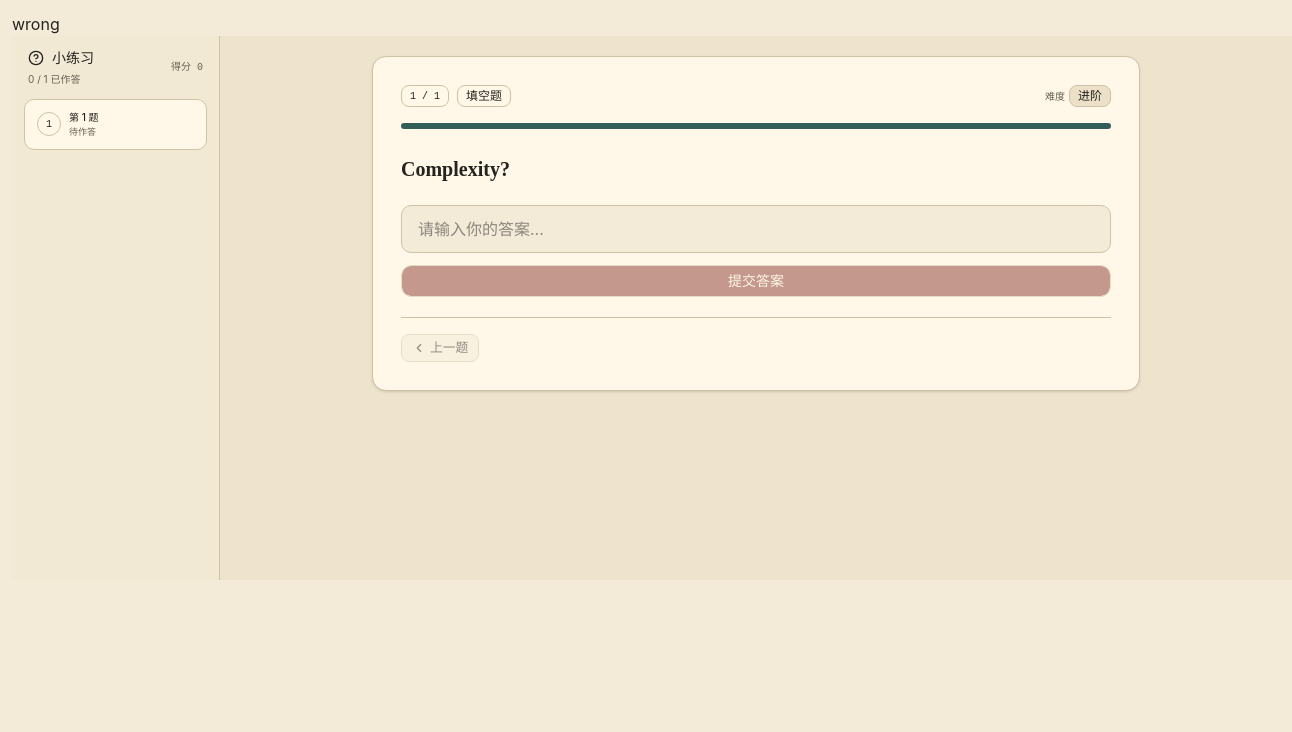
Scenario: QuizPanel › submits the current fill-in draft without reading other page inputs
This screenshot has width=1292, height=732.
Step 1. Type "O(n)" into the field with placeholder "请输入你的答案..." → (756, 229), box x1=401 y1=205 x2=1111 y2=253
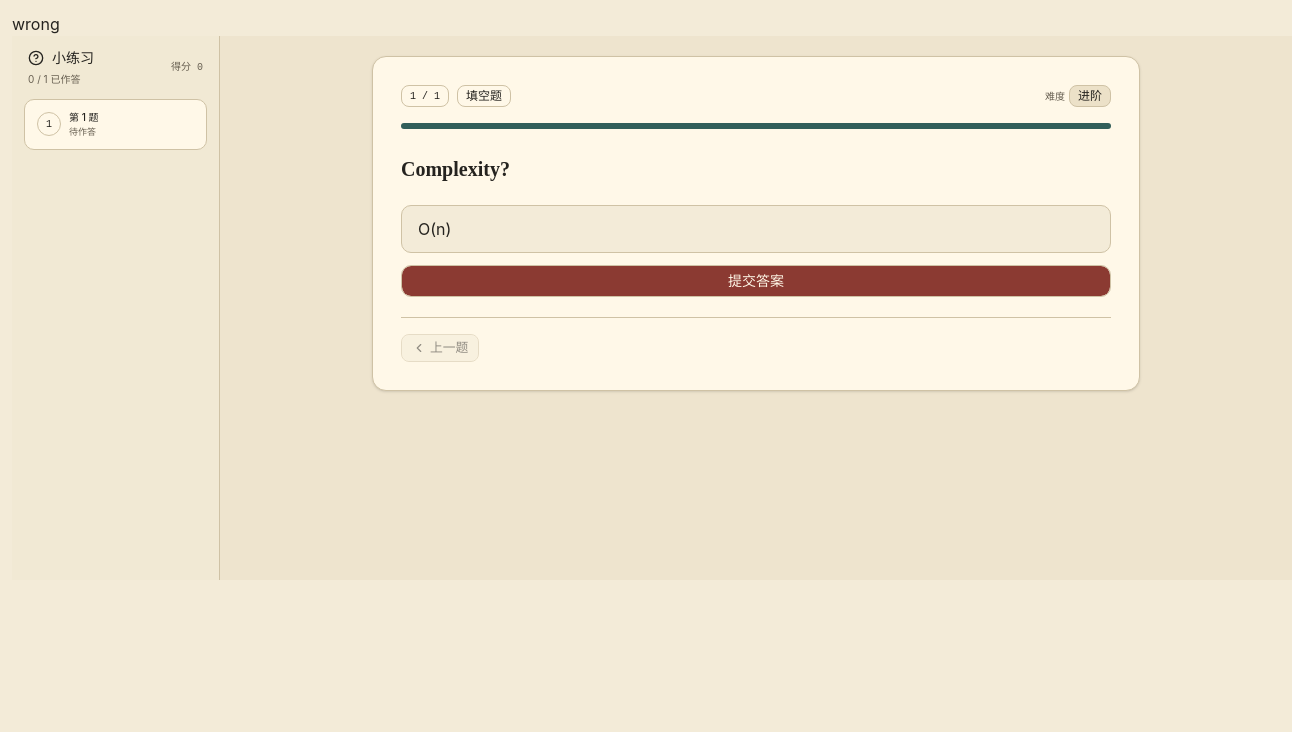
Step 2. Click the button "提交答案" → (756, 281), box x1=401 y1=265 x2=1111 y2=297
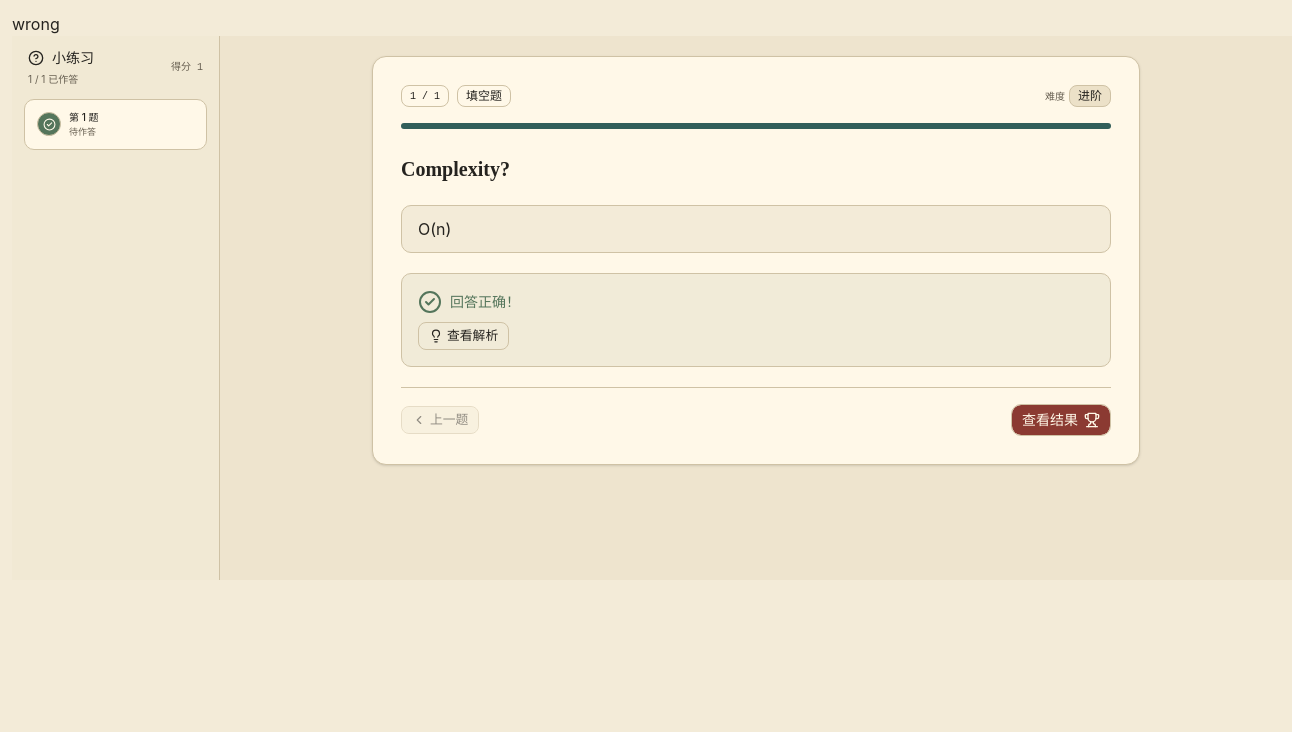
Result: the text "回答正确！" is shown at x1=418 y1=290 x2=520 y2=314
